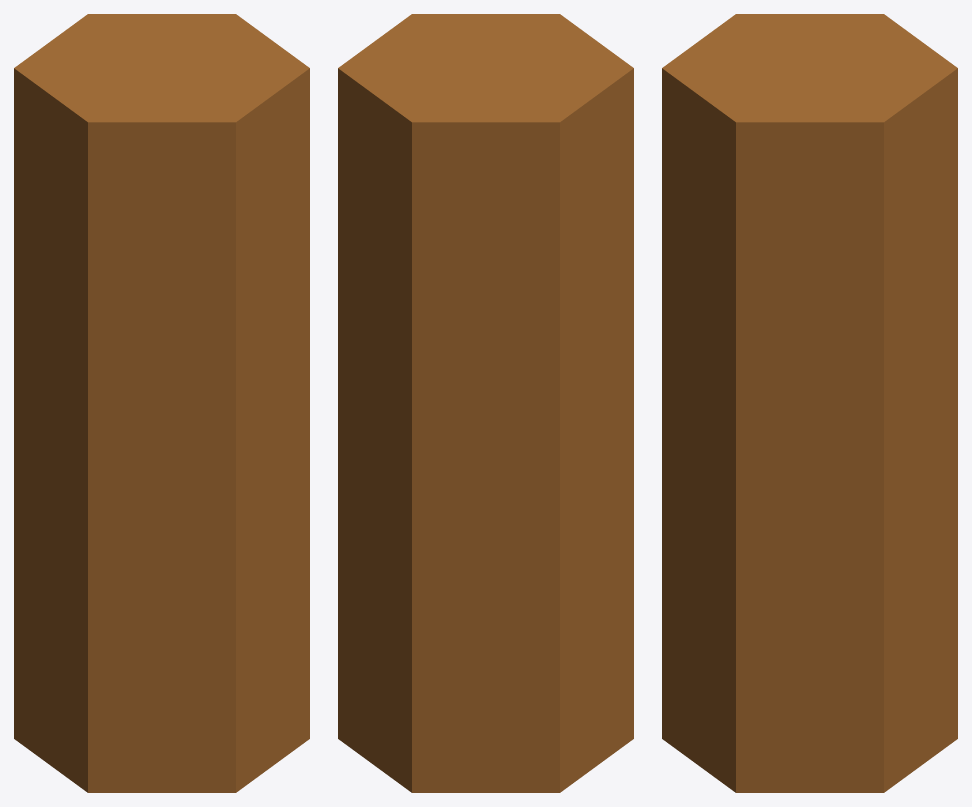
3 renders of one model, left to right at view 1: azimuth 30°, elevation 25°; view 2: azimuth 150°, elevation 25°; view 3: azimuth 270°, elevation 25°, orthographic.
Parts seen in each view (by area): view 1: 丘陵; view 2: 丘陵; view 3: 丘陵.
Part boxes in pixels (x1=…): 丘陵: x1=14, y1=14, x2=309, y2=792; 丘陵: x1=338, y1=14, x2=633, y2=792; 丘陵: x1=662, y1=14, x2=957, y2=792.
Bounding box in the file's own units: 400 × 346 × 1000.
